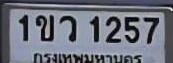1: (18, 14, 27, 40), (89, 15, 98, 41)
2: (105, 15, 120, 42)
5: (124, 16, 139, 42)
7: (143, 16, 158, 43)
A02: (35, 14, 53, 41)
A37: (59, 15, 76, 41)
BKK: (31, 50, 145, 63)
